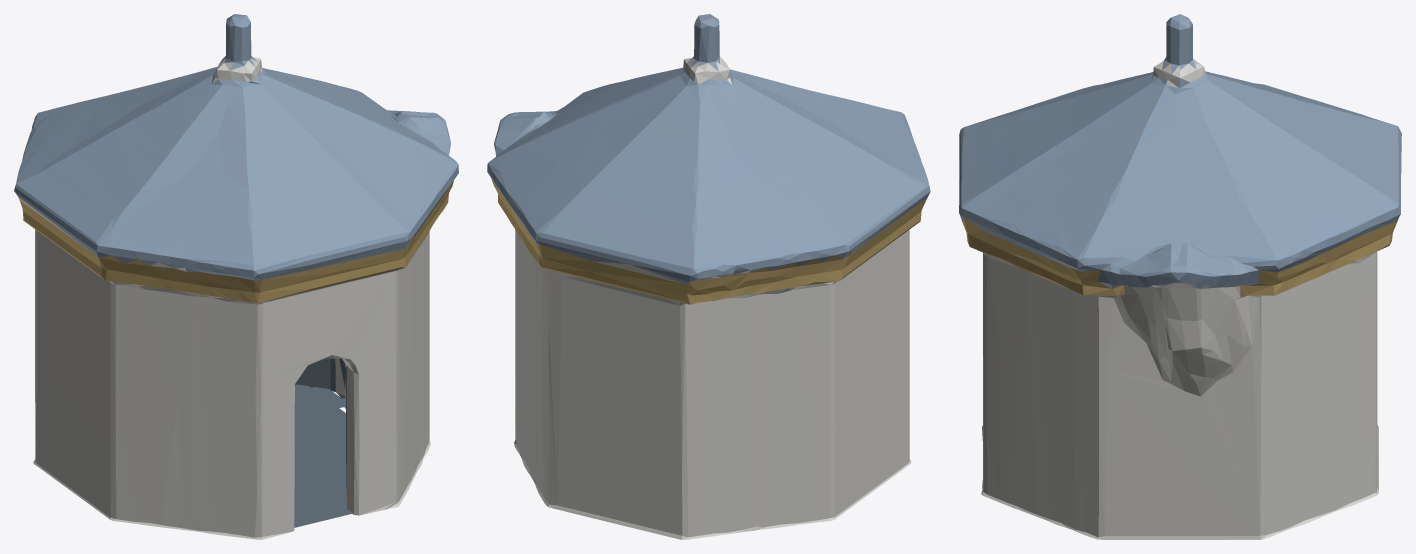
The picture shows the model from 3 angles, left to right: view 1: azimuth 30°, elevation 25°; view 2: azimuth 150°, elevation 25°; view 3: azimuth 270°, elevation 25°; orthographic projection. The views are drawn at different scales.
Parts seen in each view (by area): view 1: geometry_0; view 2: geometry_0; view 3: geometry_0.
Part boxes in pixels (x1,y1,x2,y2): geometry_0: [14, 14, 458, 539]; geometry_0: [487, 14, 930, 539]; geometry_0: [959, 14, 1401, 539].
Size of the model in its own units: 0.8594 by 0.9267 by 0.8331.
